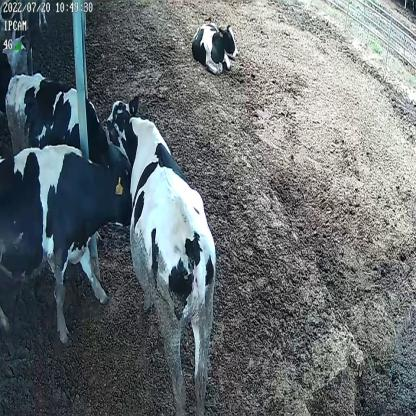cow: (101, 93, 217, 410), (0, 143, 131, 350), (6, 71, 131, 175), (191, 15, 239, 75)
